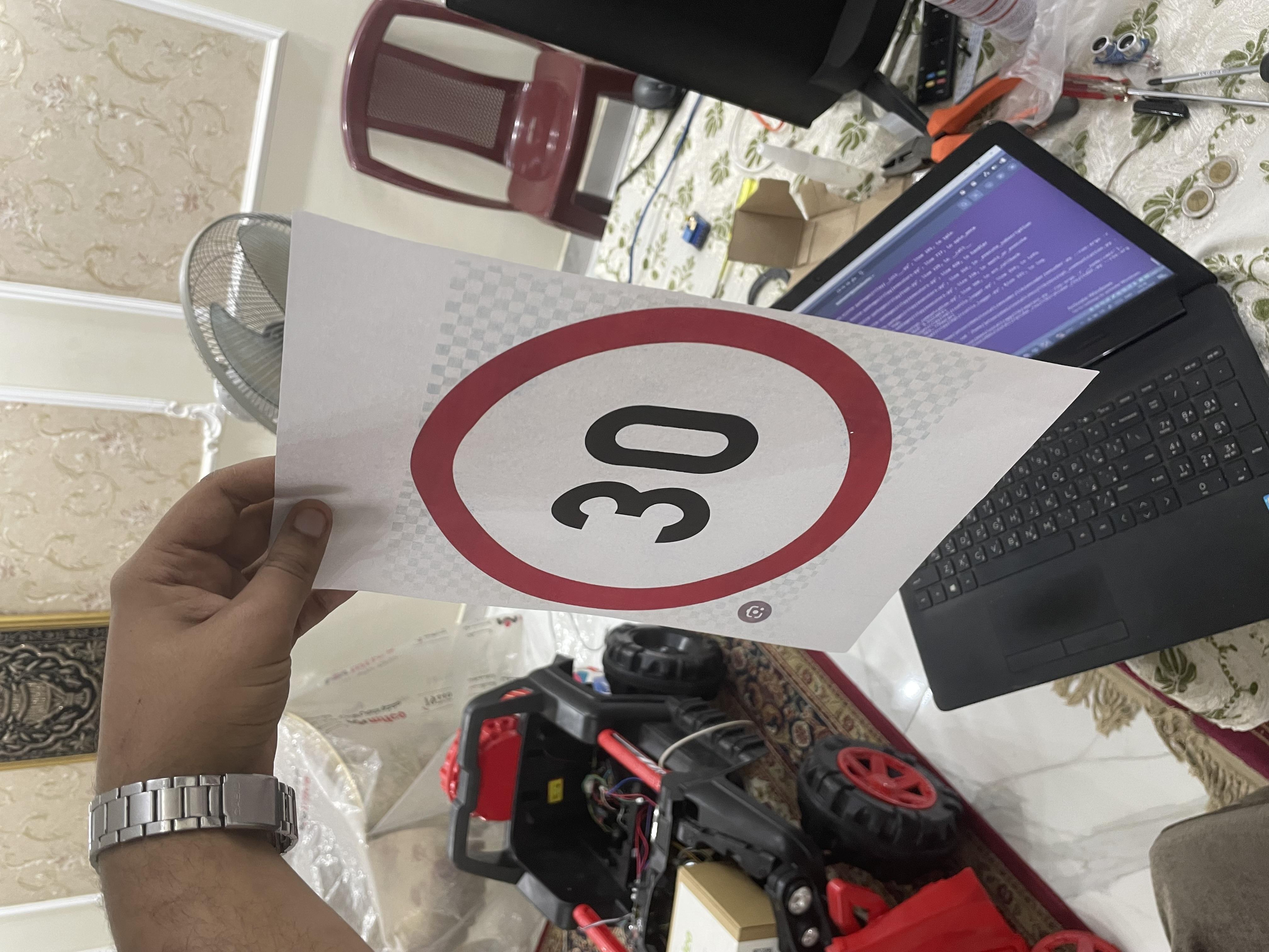30-speed: (458, 305, 855, 693)
